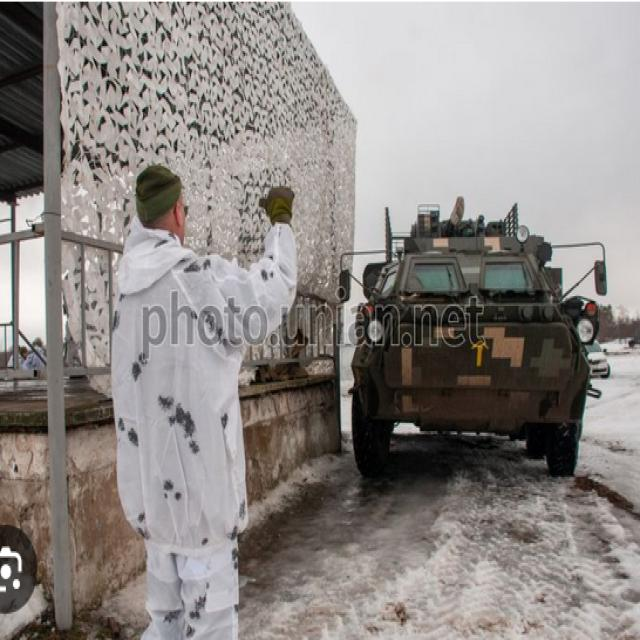MIL_APC: (326, 163, 621, 505)
